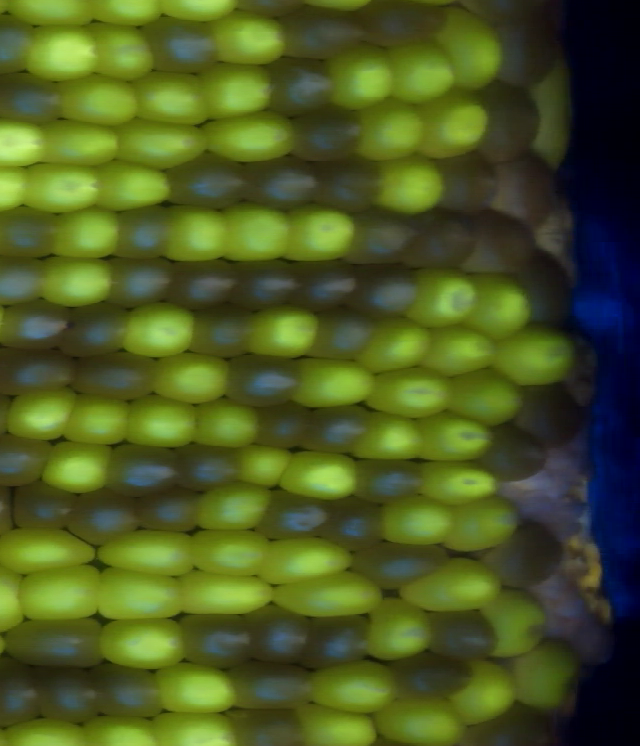fluorescent: (393, 550, 509, 620), (428, 2, 507, 97), (483, 320, 581, 391), (90, 523, 203, 582), (270, 566, 389, 622), (197, 104, 302, 167), (472, 583, 553, 663), (524, 51, 577, 172), (505, 635, 586, 714), (303, 655, 403, 718), (92, 561, 193, 623), (319, 37, 399, 115), (413, 88, 493, 166), (282, 352, 382, 413), (443, 657, 522, 733), (463, 268, 536, 350), (172, 565, 278, 621), (192, 56, 280, 123), (252, 534, 363, 587), (14, 562, 105, 626), (401, 263, 482, 334), (113, 116, 212, 174), (99, 612, 193, 673), (127, 65, 215, 130), (20, 21, 105, 88), (275, 200, 360, 267), (383, 36, 463, 107), (217, 197, 297, 268), (0, 523, 107, 576), (370, 693, 477, 746), (438, 492, 520, 561), (363, 592, 441, 664), (191, 474, 276, 540), (114, 298, 199, 363), (150, 659, 243, 718), (356, 97, 433, 168), (208, 7, 292, 72), (353, 314, 437, 379), (154, 199, 234, 267), (241, 300, 327, 363), (54, 70, 145, 129), (416, 322, 504, 383), (411, 408, 500, 468), (275, 445, 363, 505), (20, 156, 105, 218), (369, 152, 451, 216), (88, 158, 179, 215), (373, 492, 460, 551), (185, 524, 275, 581), (443, 366, 528, 426), (412, 456, 503, 511), (120, 391, 202, 452), (86, 18, 161, 84), (39, 251, 119, 312), (188, 392, 268, 453), (37, 438, 120, 496), (45, 204, 126, 263), (5, 382, 78, 446), (152, 349, 232, 407), (349, 406, 425, 467), (58, 391, 135, 450), (36, 120, 124, 170), (293, 699, 385, 746), (146, 707, 245, 746), (232, 440, 297, 491), (0, 714, 97, 746), (0, 114, 52, 172), (0, 1, 103, 30), (78, 712, 164, 746), (84, 1, 171, 30), (0, 558, 30, 637), (152, 1, 242, 26), (0, 160, 35, 216)
nonfluorescent: (479, 4, 563, 95), (475, 518, 569, 594), (470, 76, 551, 164), (345, 536, 456, 599), (2, 612, 113, 673), (452, 205, 541, 281), (510, 242, 579, 337), (162, 150, 260, 215), (488, 149, 562, 234), (220, 655, 319, 717), (273, 3, 370, 64), (469, 421, 556, 489), (67, 348, 165, 406), (87, 655, 168, 725), (136, 12, 226, 75), (508, 380, 589, 449), (260, 52, 341, 121), (237, 154, 327, 216), (430, 146, 506, 219), (32, 659, 109, 731), (169, 610, 257, 673), (348, 1, 453, 53), (411, 606, 506, 663), (63, 486, 145, 552), (387, 648, 480, 706), (398, 207, 483, 270), (346, 451, 432, 513), (101, 438, 187, 500), (241, 602, 317, 671), (289, 99, 367, 166), (55, 297, 134, 363), (343, 206, 427, 268), (299, 611, 379, 676), (219, 348, 308, 406), (311, 150, 388, 217), (346, 256, 423, 322), (314, 491, 393, 555), (101, 250, 181, 312), (253, 485, 337, 544), (186, 302, 266, 363), (0, 341, 84, 399), (9, 475, 85, 538), (280, 256, 364, 313), (164, 253, 243, 312), (0, 295, 79, 353), (230, 255, 309, 313), (553, 323, 608, 404), (306, 304, 380, 364), (165, 438, 244, 494), (219, 699, 313, 746), (300, 402, 380, 456), (0, 67, 70, 126), (135, 481, 207, 538), (0, 201, 66, 262), (0, 651, 49, 731), (112, 195, 170, 261), (247, 400, 318, 451), (0, 433, 60, 492), (0, 251, 51, 308), (0, 11, 34, 80)
